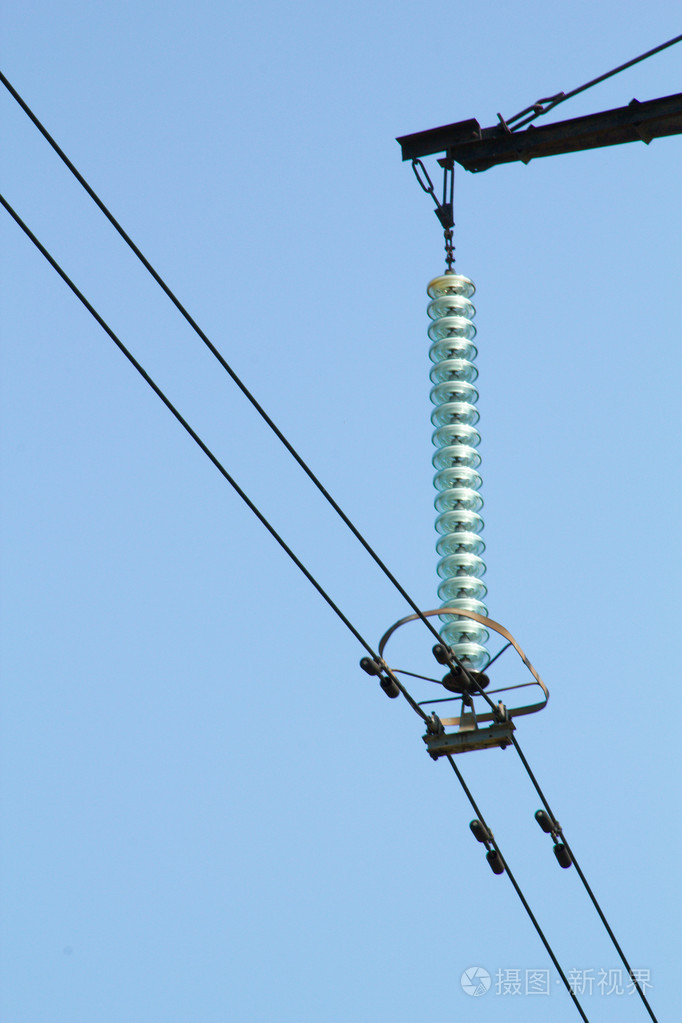insulator: (423, 270, 498, 672)
